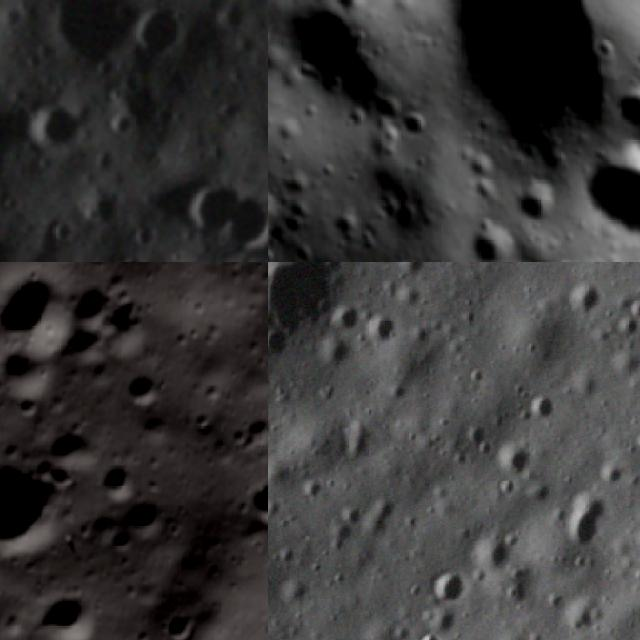crater: (268, 0, 423, 219), (423, 0, 624, 157), (22, 0, 164, 87), (0, 434, 78, 576), (268, 262, 373, 360), (0, 262, 91, 371), (567, 134, 640, 260), (546, 470, 636, 563), (12, 90, 104, 175), (168, 162, 248, 245), (24, 573, 118, 640), (110, 482, 188, 558), (98, 284, 172, 358), (36, 414, 110, 488), (120, 0, 197, 71), (47, 262, 121, 334), (110, 356, 181, 427), (80, 443, 149, 512), (479, 422, 548, 491), (467, 514, 534, 581), (502, 174, 564, 237), (419, 554, 476, 612), (151, 593, 214, 640), (560, 268, 614, 322), (462, 215, 523, 262), (520, 380, 574, 433), (234, 464, 268, 540), (268, 166, 293, 262), (609, 74, 640, 143), (593, 448, 638, 493), (41, 209, 83, 255), (398, 104, 438, 152), (611, 305, 640, 345), (109, 242, 163, 262), (618, 285, 640, 323), (324, 0, 373, 15), (497, 256, 564, 262)
